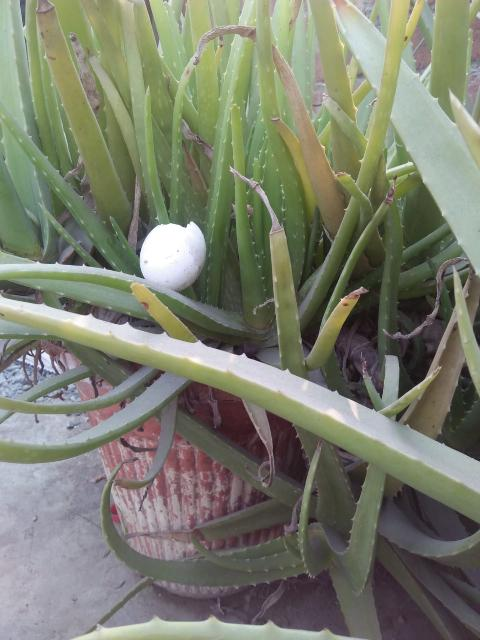Roto: (139, 220, 207, 289)
